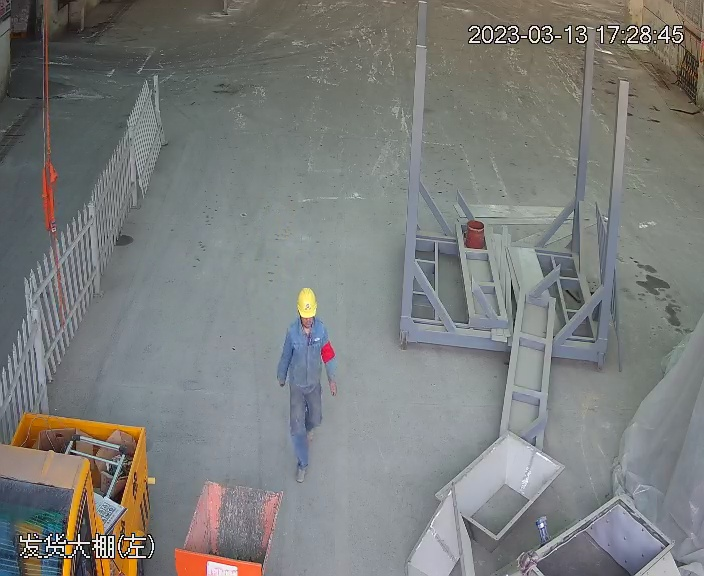head: (280, 285, 334, 351)
helmet: (294, 286, 321, 318)
people: (273, 281, 338, 477)
